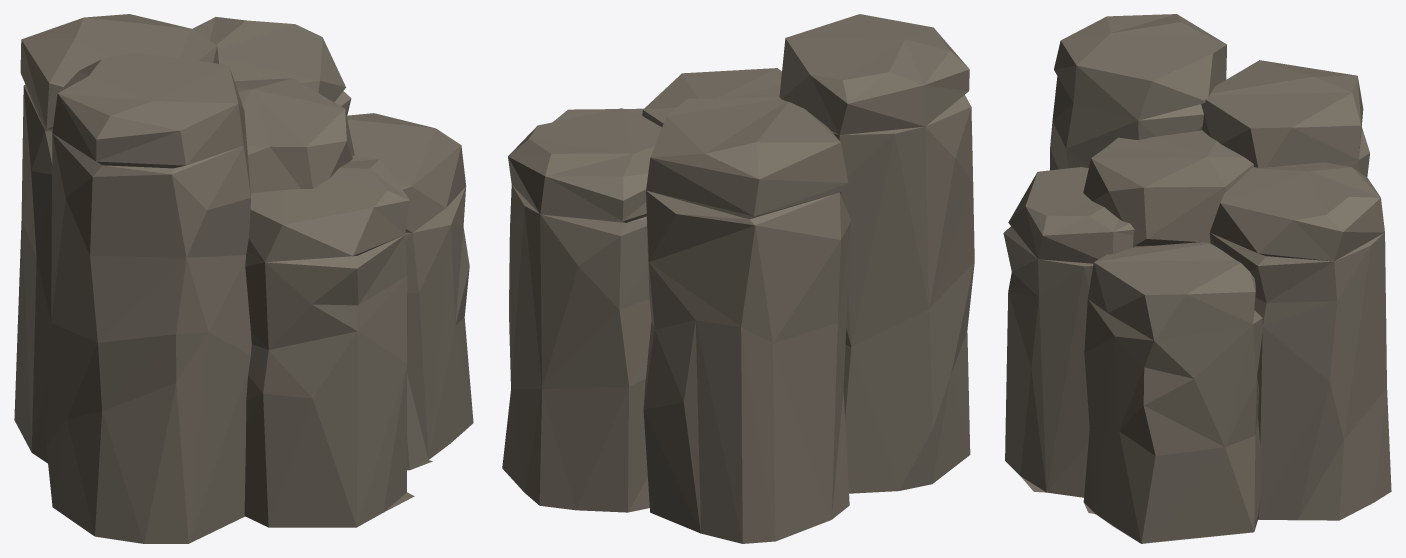
Rendered from RockPillars_01.glb.
3 renders of one model, left to right at view 1: azimuth 30°, elevation 25°; view 2: azimuth 150°, elevation 25°; view 3: azimuth 270°, elevation 25°, orthographic. The views are drawn at different scales.
Visible parts, largest first — view 1: RockPillars_01; view 2: RockPillars_01; view 3: RockPillars_01.
Part boxes in pixels (x1=…): RockPillars_01: x1=14, y1=14, x2=473, y2=543; RockPillars_01: x1=502, y1=14, x2=974, y2=543; RockPillars_01: x1=1003, y1=14, x2=1391, y2=543.
Size of what is drawn, in the model's own units: 3.25 by 3.23 by 3.06.
1 material, 1 textured.
